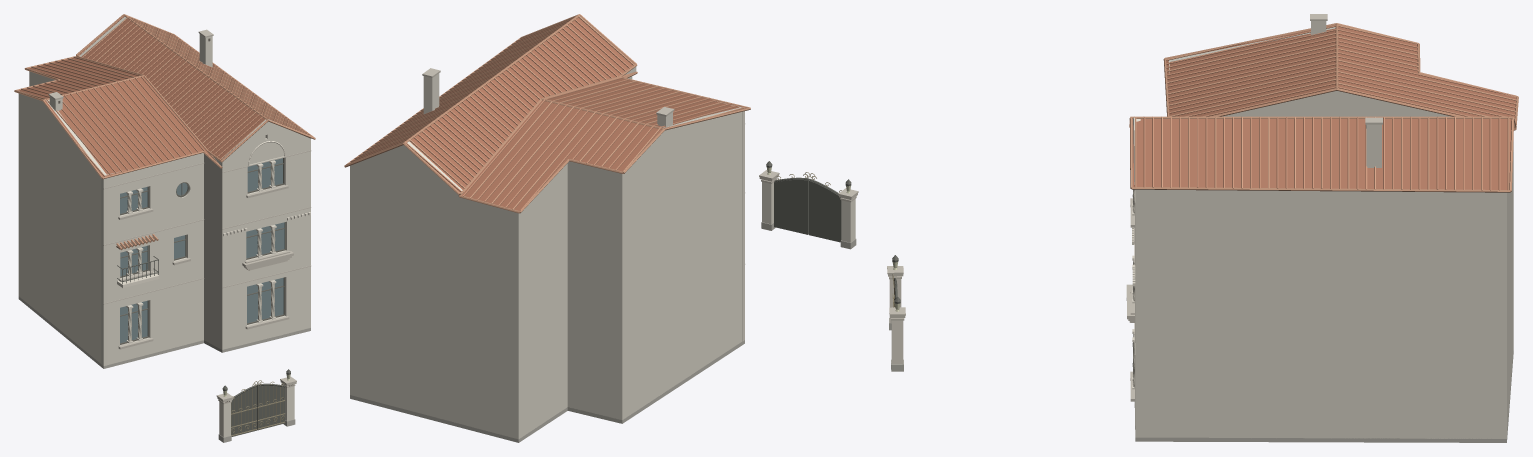
File: xuhui-yicun-no2-street-front-lod.glb
3 renders of one model, left to right at view 1: azimuth 30°, elevation 25°; view 2: azimuth 150°, elevation 25°; view 3: azimuth 270°, elevation 25°, orthographic. The views are drawn at different scales.
Visible parts, largest first — view 1: 逸村2号淮海中路园侧立面; view 2: 逸村2号淮海中路园侧立面; view 3: 逸村2号淮海中路园侧立面.
Part boxes in pixels (x1,y1,x2,y2): 逸村2号淮海中路园侧立面: [14, 14, 315, 442]; 逸村2号淮海中路园侧立面: [344, 14, 858, 442]; 逸村2号淮海中路园侧立面: [887, 14, 1518, 442].
Bounding box in the file's own units: 11.63 × 12.86 × 23.6.
